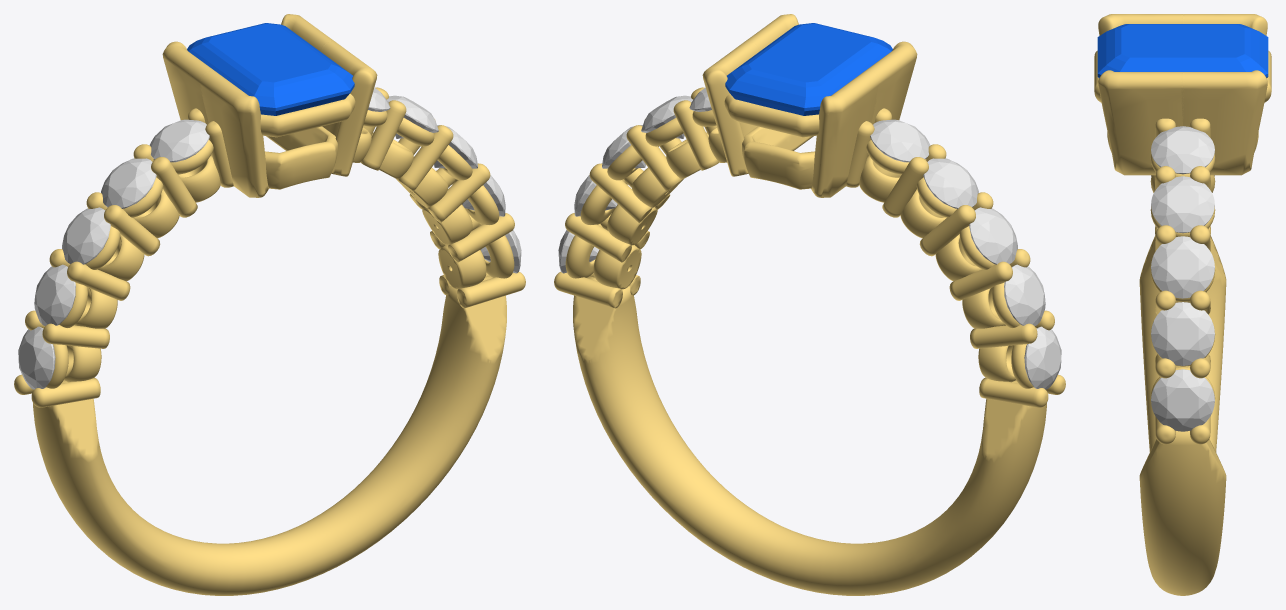
File: bluesapphire-emerald-yellowgold-halfmoonbezel-taperedband-11stone.glb
3 views of the same model, side by side, from view 1: azimuth 30°, elevation 25°; view 2: azimuth 150°, elevation 25°; view 3: azimuth 270°, elevation 25° (orthographic).
Parts seen in each view (by area): view 1: metal.002, stone.002, side.024, side.025, side.023, side.026, side.002, side.028; view 2: metal.002, stone.002, side.024, side.025, side.023, side.026, side.002, side.028; view 3: metal.002, stone.002, side.030, side.031, side.029, side.028, side.027.
Boxes of the visible parts, box(x1,y1,x2,y2) form: metal.002: box(14, 14, 525, 595); stone.002: box(187, 23, 354, 115); side.024: box(62, 207, 110, 264); side.025: box(101, 158, 156, 208); side.023: box(34, 264, 75, 325); side.026: box(149, 119, 209, 162); side.002: box(18, 326, 55, 389); side.028: box(387, 95, 438, 138); metal.002: box(554, 14, 1065, 595); stone.002: box(725, 23, 892, 115); side.024: box(969, 207, 1017, 264); side.025: box(923, 158, 978, 208); side.023: box(1004, 264, 1045, 325); side.026: box(870, 119, 930, 162); side.002: box(1024, 326, 1061, 389); side.028: box(641, 95, 692, 138); metal.002: box(1094, 14, 1271, 595); stone.002: box(1097, 24, 1268, 77); side.030: box(1151, 302, 1214, 365); side.031: box(1151, 369, 1214, 431); side.029: box(1151, 236, 1214, 298); side.028: box(1151, 176, 1214, 233); side.027: box(1151, 126, 1214, 174).
Size of the model in its own units: 22.03 by 22.94 by 6.94.
